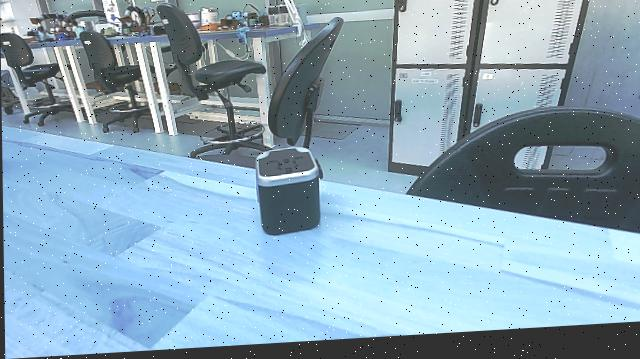adapter: (249, 147, 336, 248)
